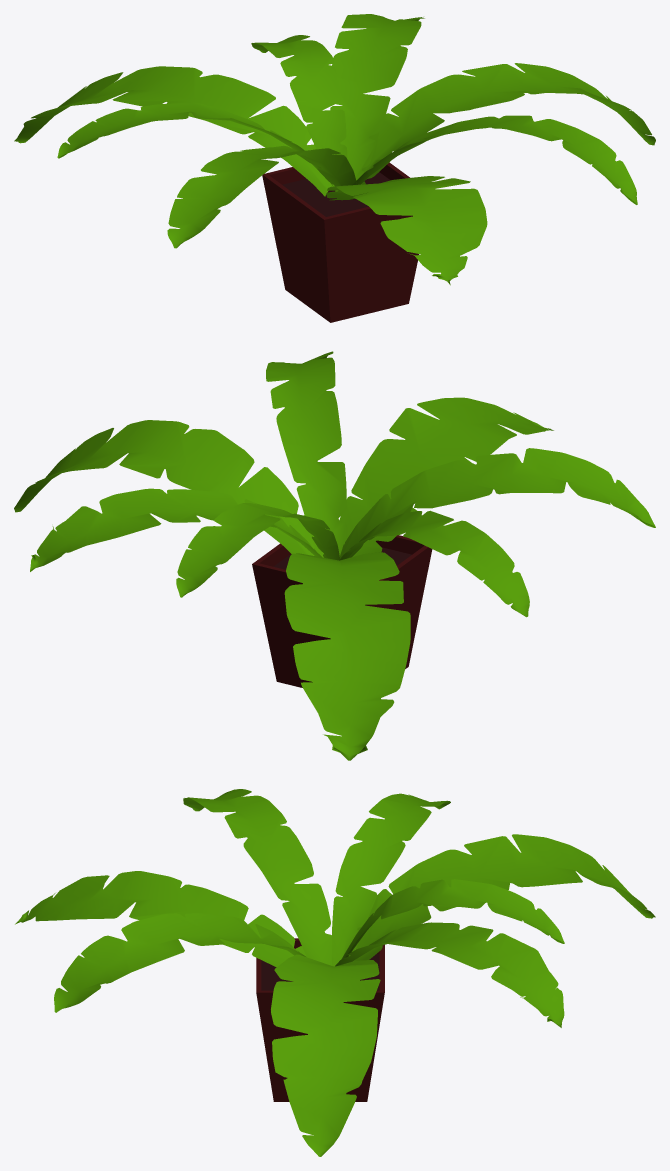
The model's file is plantspuppet4.fbx.
3 renders of one model, top to bottom at view 1: azimuth 30°, elevation 25°; view 2: azimuth 150°, elevation 25°; view 3: azimuth 270°, elevation 25°, orthographic. The views are drawn at different scales.
Visible parts, largest first — view 1: Cube; view 2: Cube; view 3: Cube.
Part boxes in pixels (<box>): Cube: <box>14,14,655,322</box>; Cube: <box>14,351,655,760</box>; Cube: <box>15,789,655,1156</box>.
Bounding box in the file's own units: 427 × 153 × 426.
